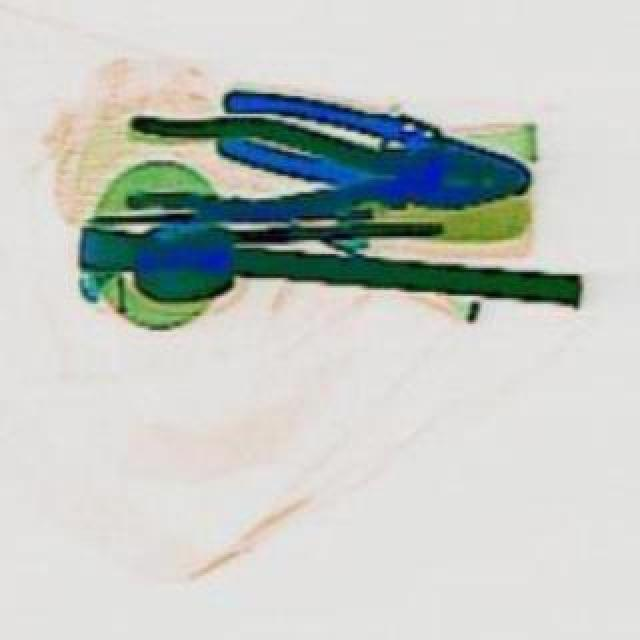wrench: (120, 106, 518, 230)
